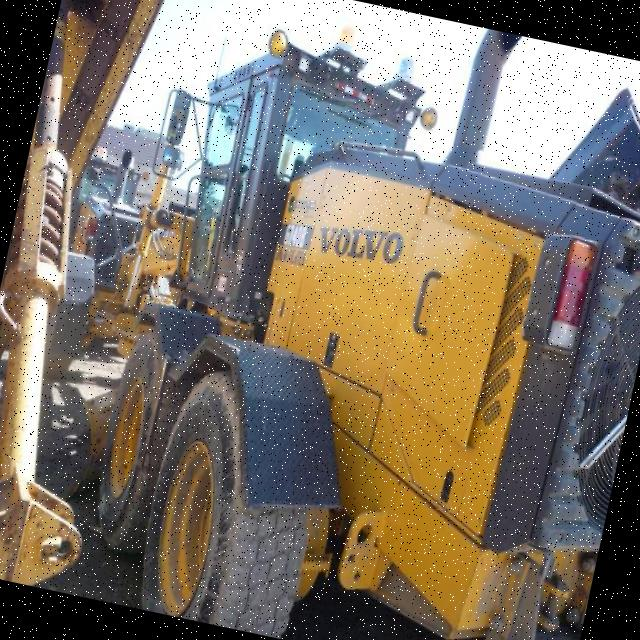Grader: (7, 2, 640, 640)
